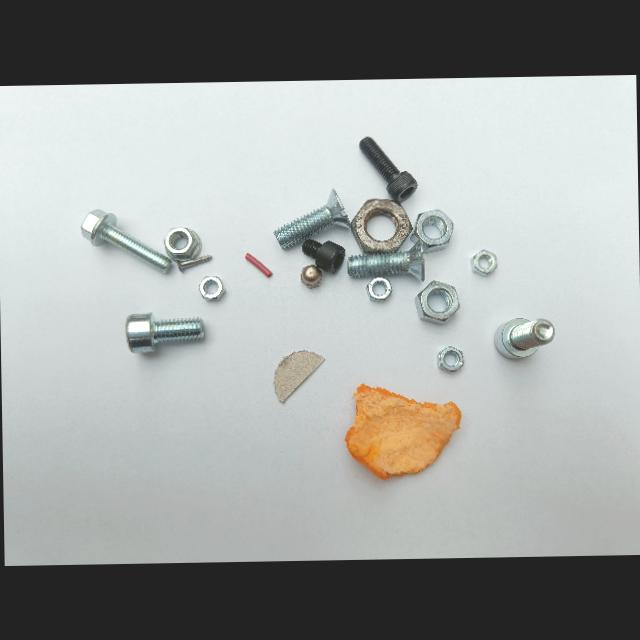bolt: (81, 209, 172, 273), (273, 189, 350, 249), (359, 136, 417, 203), (347, 239, 426, 281), (126, 312, 204, 352), (494, 318, 554, 358), (302, 239, 345, 273), (176, 254, 212, 271)
nuts: (349, 199, 412, 253), (415, 281, 459, 324), (408, 210, 453, 252), (164, 227, 201, 264), (198, 275, 226, 301), (436, 346, 464, 372), (470, 250, 497, 276), (366, 277, 392, 302), (300, 264, 322, 288)
